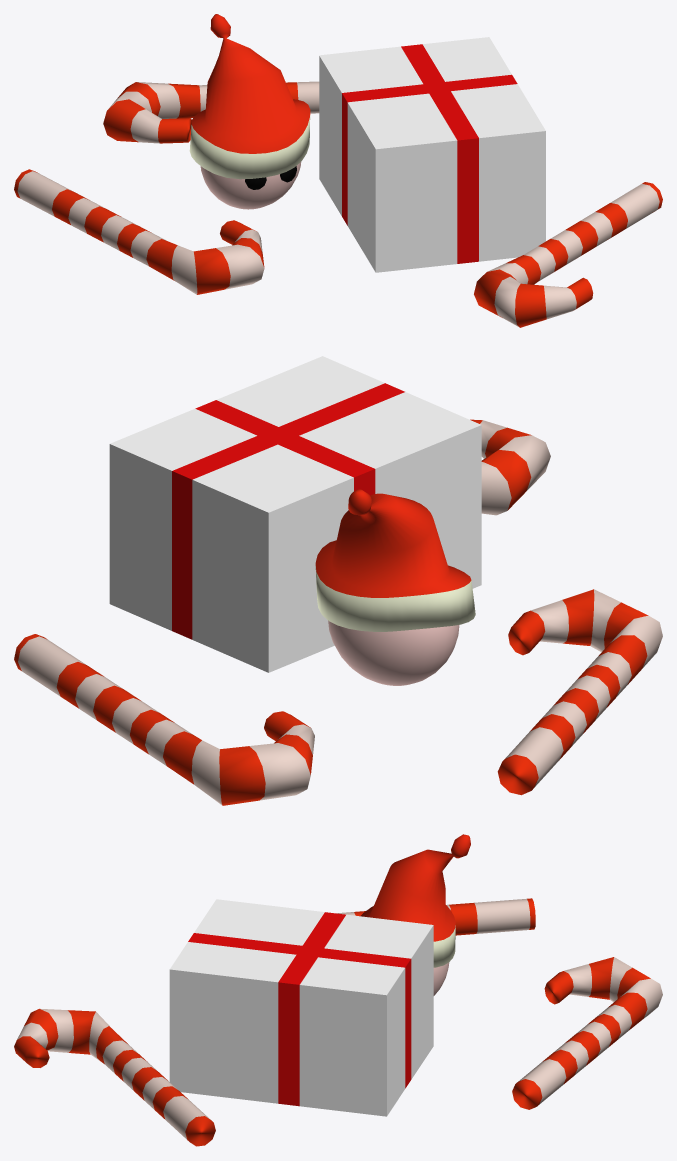
Rendered from nechto_strashnoe_i_opasnoe.glb.
The picture shows the model from 3 angles, top to bottom: view 1: azimuth 30°, elevation 25°; view 2: azimuth 150°, elevation 25°; view 3: azimuth 270°, elevation 25°; orthographic projection. The views are drawn at different scales.
Visible parts, largest first — view 1: Cube.001, Circle, Cylinder.001, Cylinder.002, Cylinder.003; view 2: Cube.001, Circle, Cylinder.003, Cylinder.001, Cylinder.002; view 3: Cube.001, Cylinder.003, Cylinder.002, Circle, Cylinder.001.
Boxes of the visible parts, left/top/right/bottom form: Cube.001: left=319, top=37, right=545, bottom=272; Circle: left=189, top=14, right=310, bottom=209; Cylinder.001: left=14, top=169, right=264, bottom=294; Cylinder.002: left=474, top=182, right=662, bottom=327; Cylinder.003: left=103, top=81, right=319, bottom=143; Cube.001: left=109, top=356, right=481, bottom=672; Circle: left=315, top=489, right=475, bottom=685; Cylinder.003: left=14, top=634, right=314, bottom=805; Cylinder.001: left=497, top=589, right=662, bottom=795; Cylinder.002: left=470, top=419, right=550, bottom=515; Cube.001: left=169, top=899, right=433, bottom=1116; Cylinder.003: left=512, top=957, right=662, bottom=1109; Cylinder.002: left=14, top=1008, right=215, bottom=1146; Circle: left=360, top=834, right=470, bottom=995; Cylinder.001: left=337, top=898, right=535, bottom=935.
Size of the model in its own units: 7.56 by 2.7 by 9.11.
